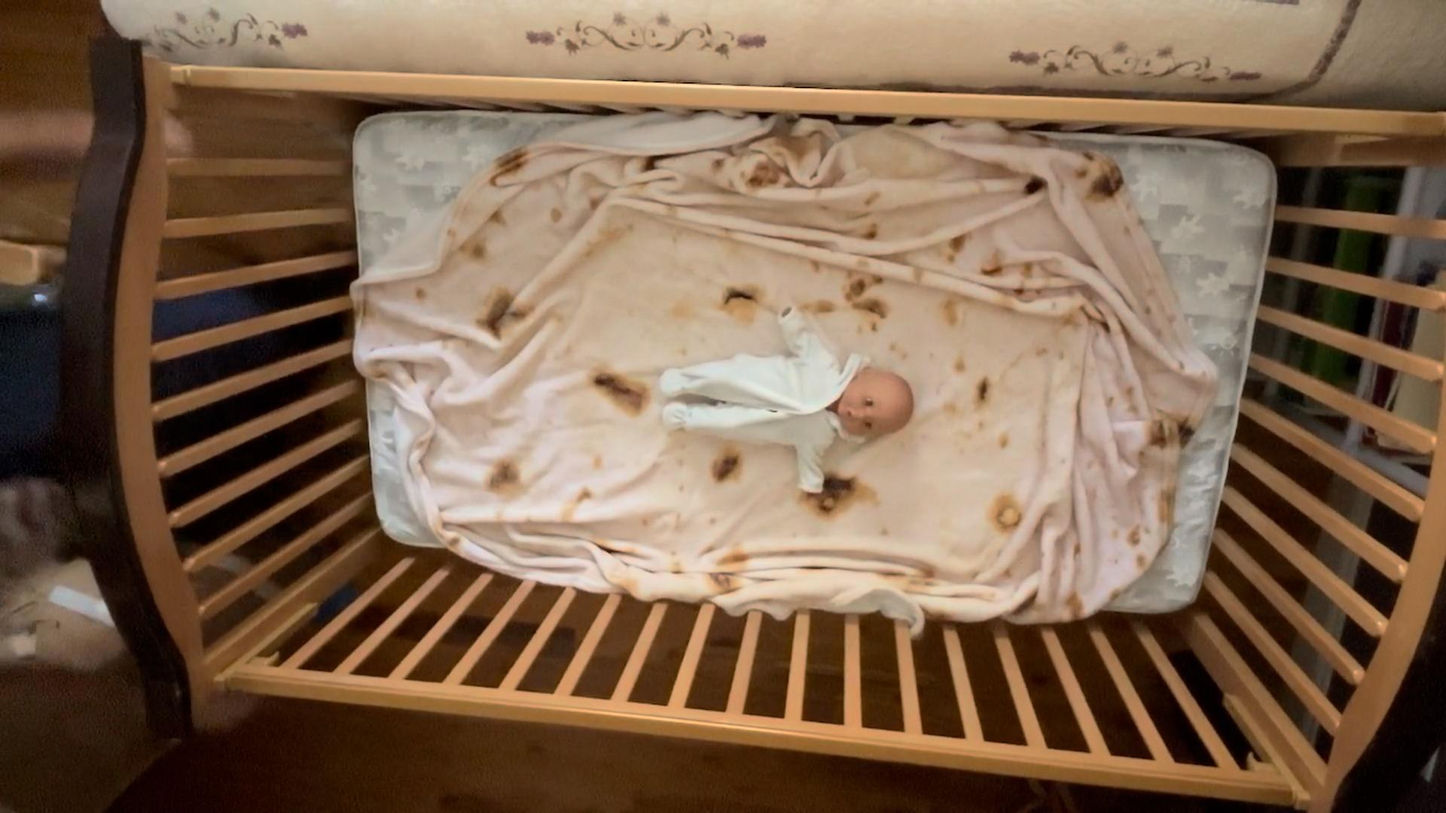baby: (655, 301, 916, 499)
